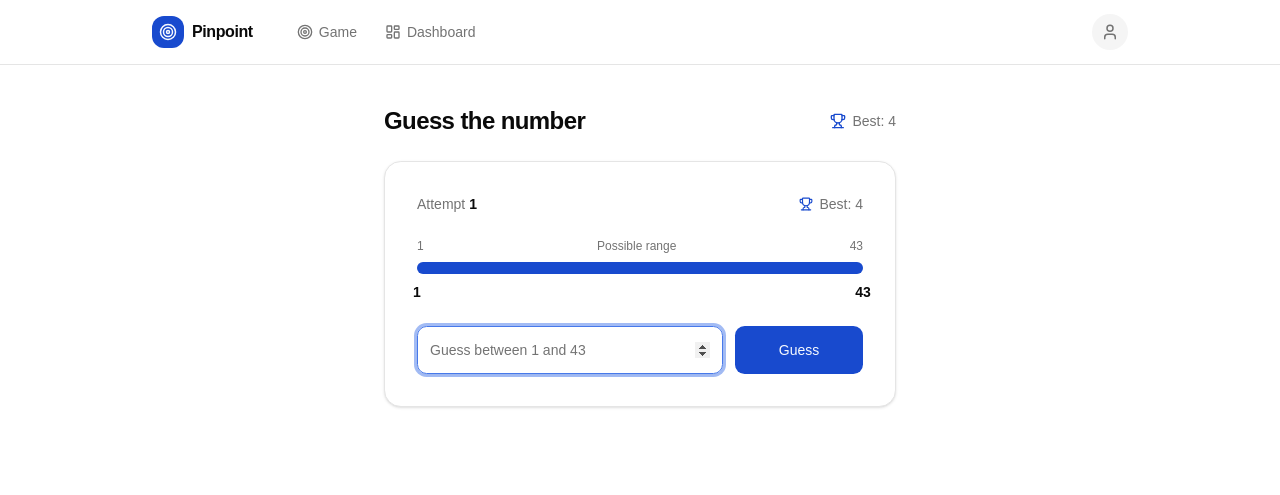
GamePage › shows a HIGHER banner and narrows the range
Type "15" into the number field with placeholder "Guess between 1 and 43". click: {"x": 570, "y": 350}
box: [417,326,723,374]
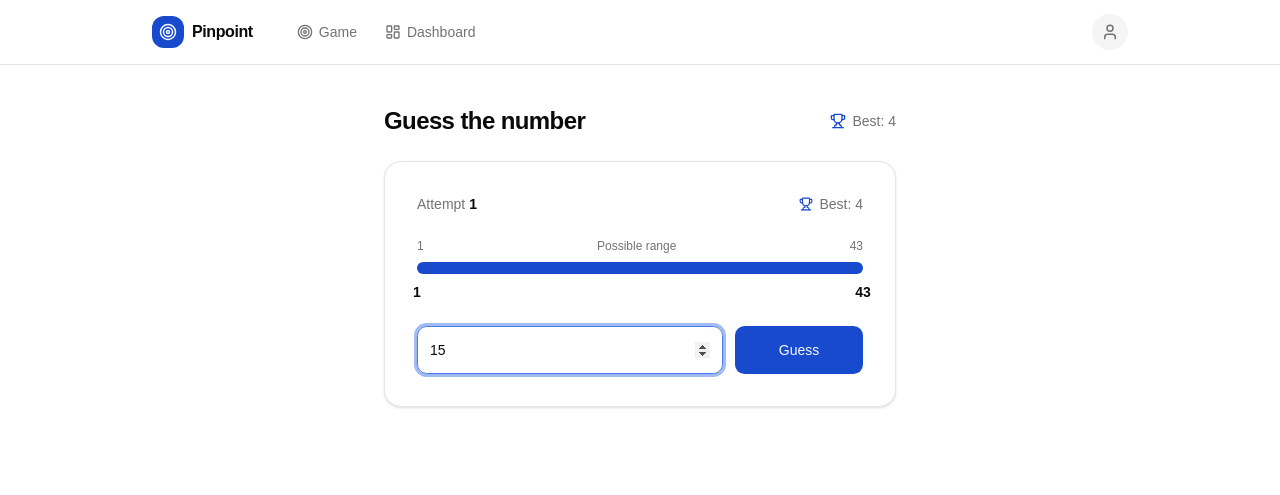
Click the button "Guess". click: {"x": 799, "y": 350}
box: [735,326,863,374]
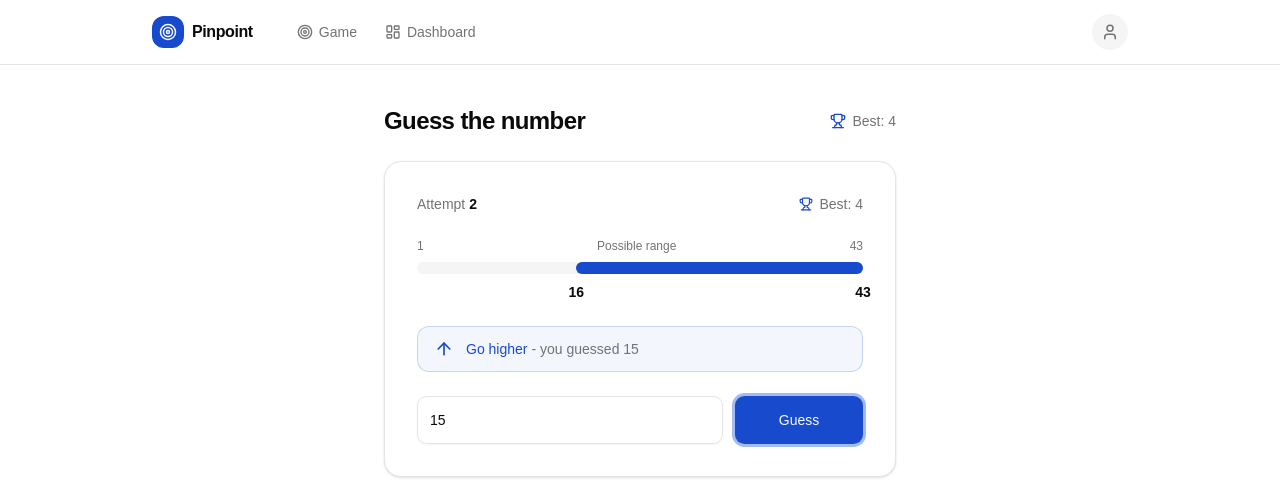
Expected: the text "Go higher- you guessed 15" is shown, [466,339,639,359]
Expected: the text "- you guessed 15" is shown, [532,341,639,357]
